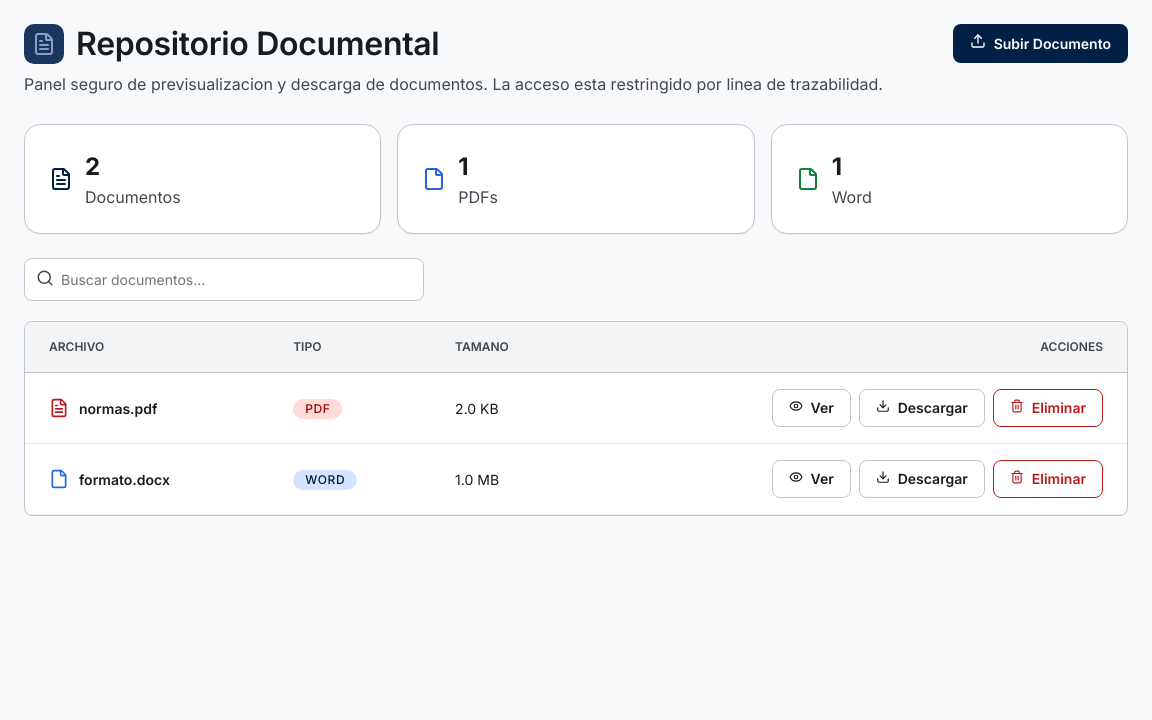
Scenario: DocumentRepository page › deactivates a document with confirmation
Expected: the text "normas.pdf" is shown, [79,398,158,418]
Click the button "Eliminar" in the row of "normas.pdf". click: [1048, 408]
box: [993,389,1103,427]
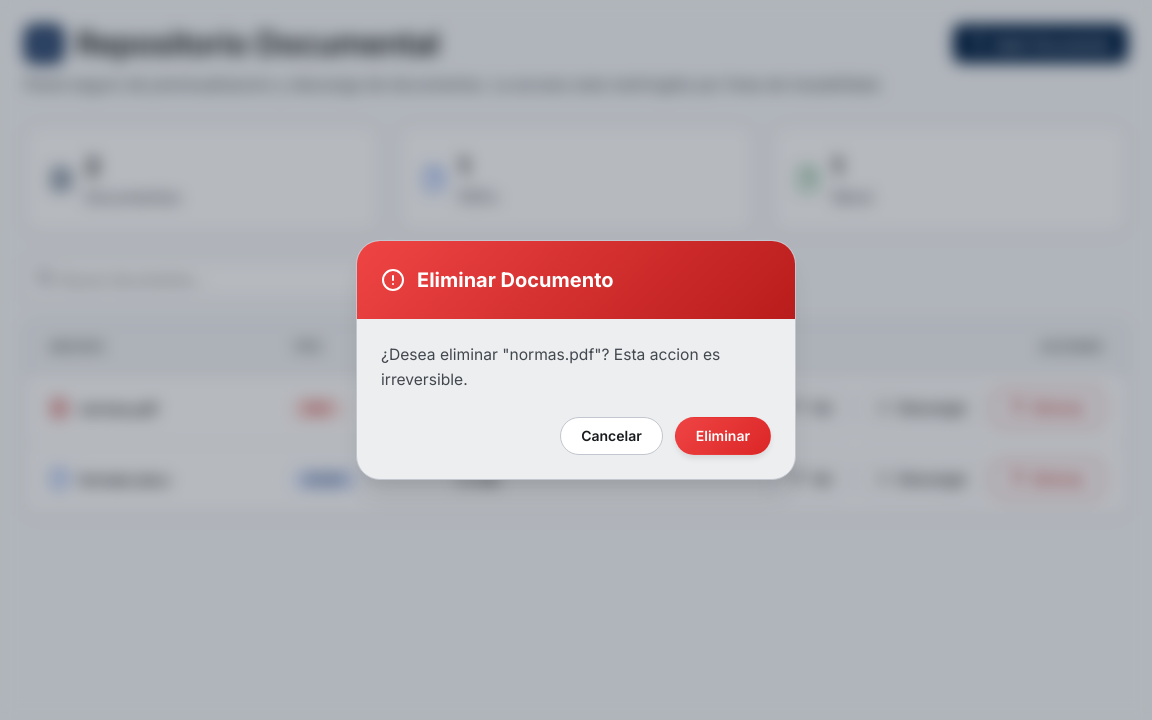
Click the button "Eliminar". click: [723, 436]
box: [675,417,771,455]
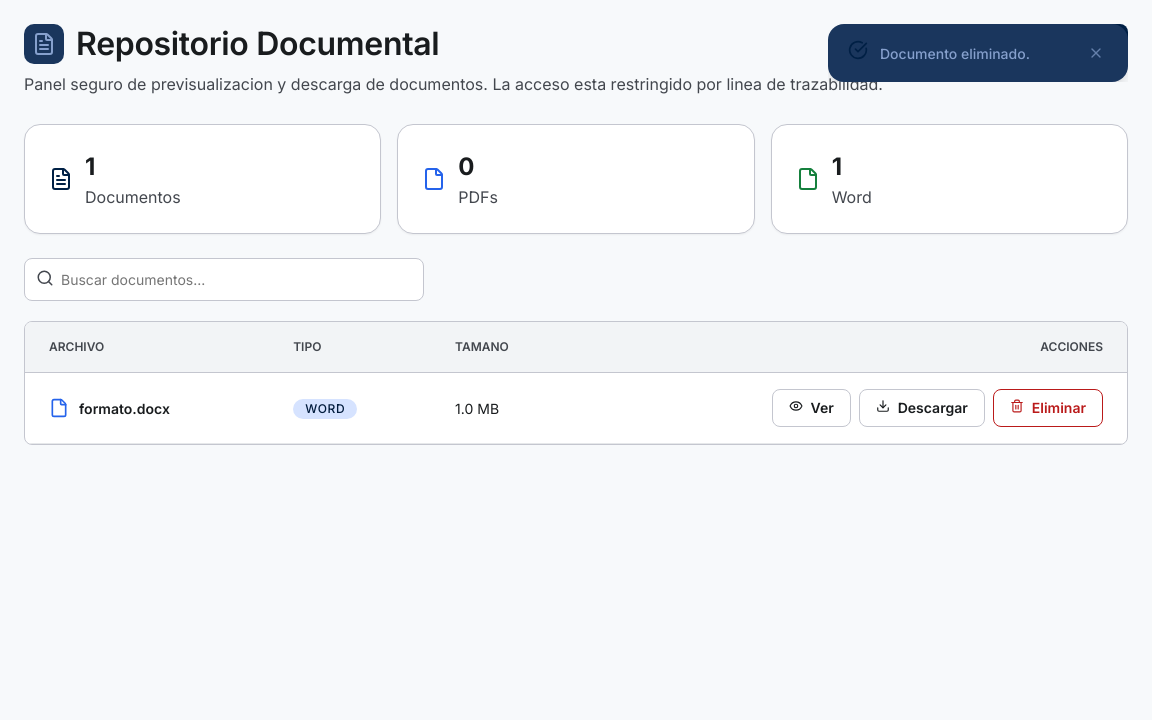
Result: the text "normas.pdf" is gone
